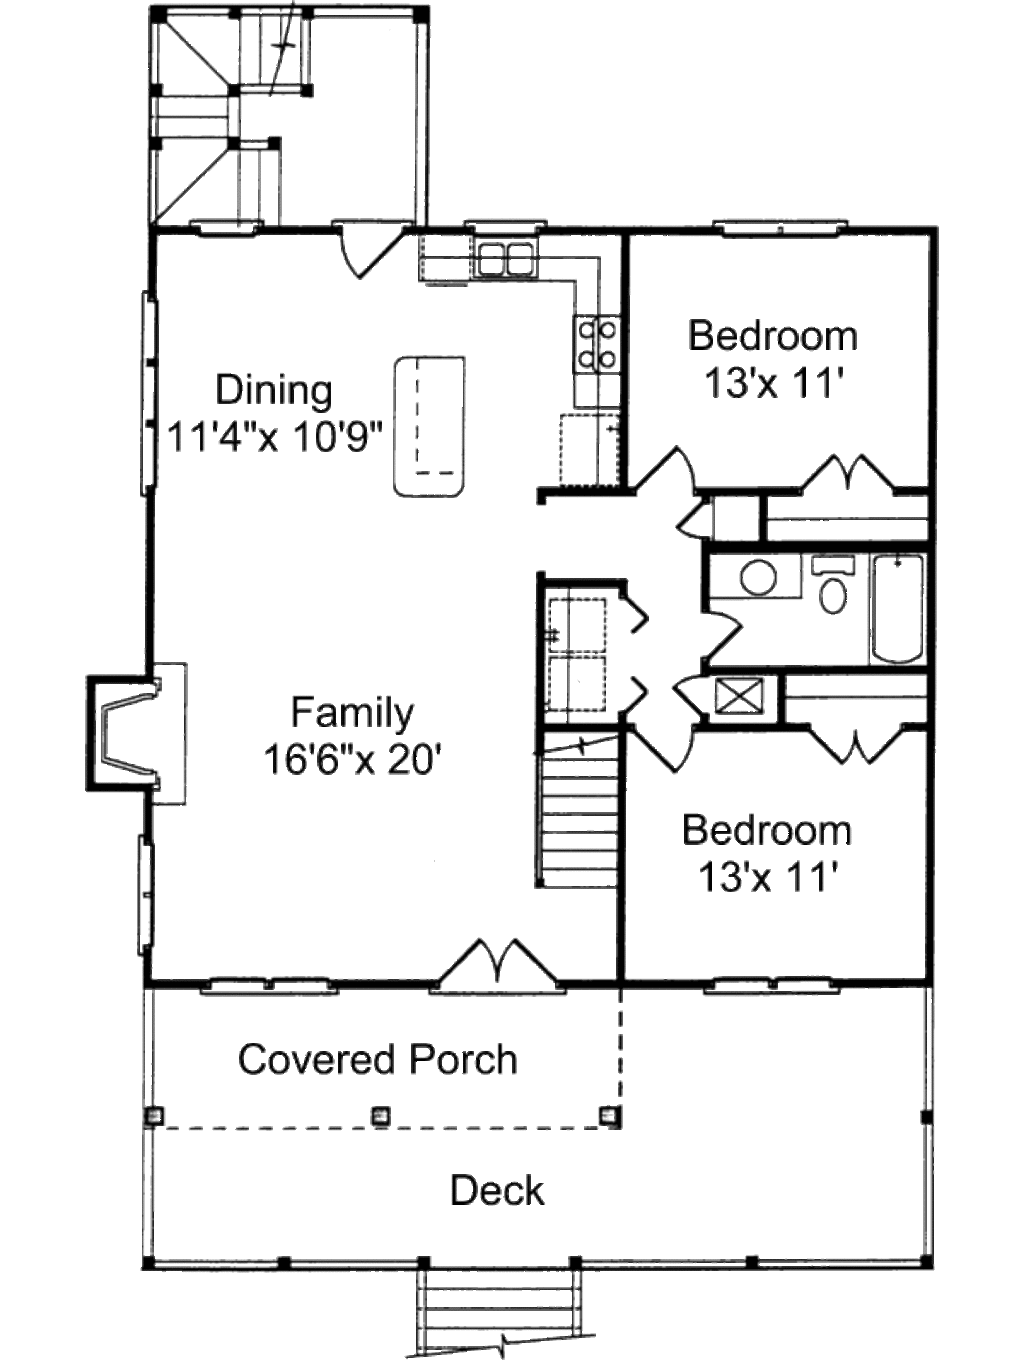coffee_table: (713, 677, 769, 722)
door: (439, 941, 561, 1007), (801, 452, 892, 502), (811, 721, 902, 771), (330, 223, 408, 281), (632, 713, 702, 770), (631, 445, 692, 496)
large_sink: (808, 555, 862, 618)
small_sink: (703, 545, 803, 602)
stairs: (146, 8, 314, 226), (413, 1258, 584, 1360), (531, 729, 623, 899)
tub: (863, 552, 930, 667)
twin_sink: (468, 239, 537, 281)
windows: (136, 289, 162, 493), (194, 976, 336, 1003), (133, 836, 160, 958), (700, 974, 842, 996), (719, 219, 850, 242)
